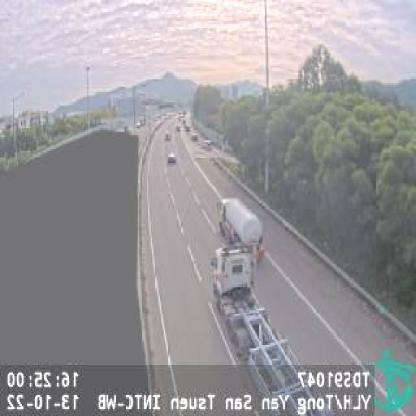Car: (167, 152, 175, 162)
Truck: (210, 251, 335, 416), (216, 194, 265, 258)
